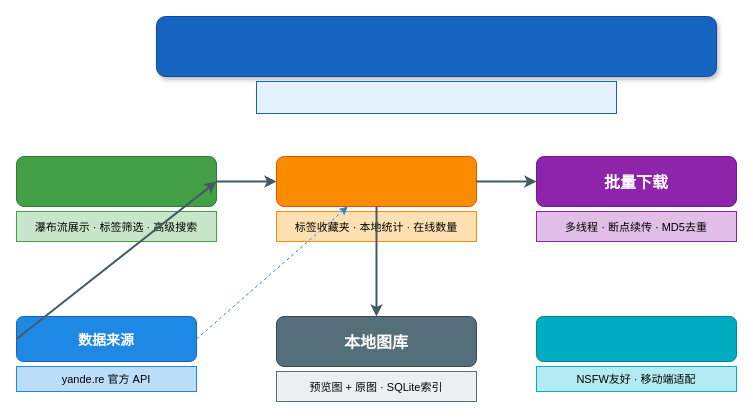
This 753x418 diagram has some shape labels left out. The shapes that lost their labels are listed below. From the top down, each one's centre as x and y in pixels, then its label:
[437,48]: Yande.re Spider Next
[436,97]: Modern Image Download Manager
[116,181]: 图片浏览
[376,181]: 收藏管理
[636,339]: 省流模式
